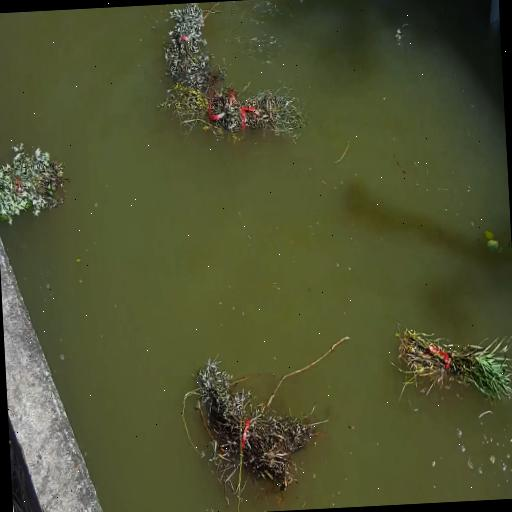twig: (186, 342, 344, 506), (391, 315, 512, 409), (162, 74, 305, 144), (0, 141, 67, 224), (161, 2, 216, 89)
